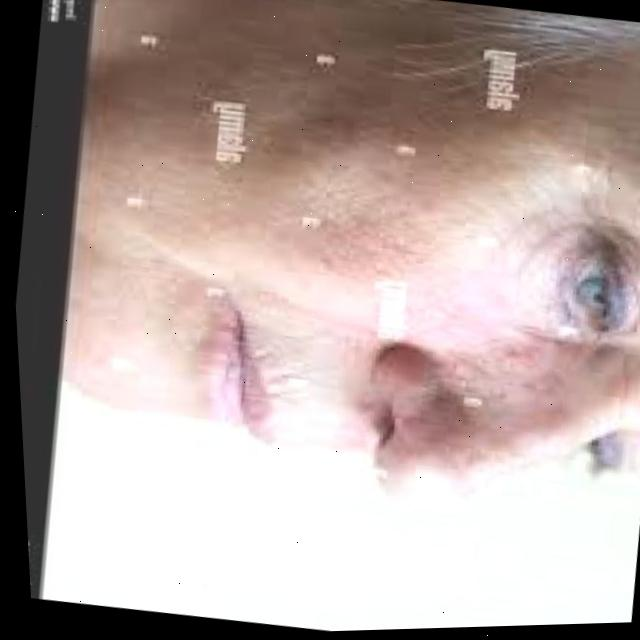Rosacea: (307, 195, 446, 289)
